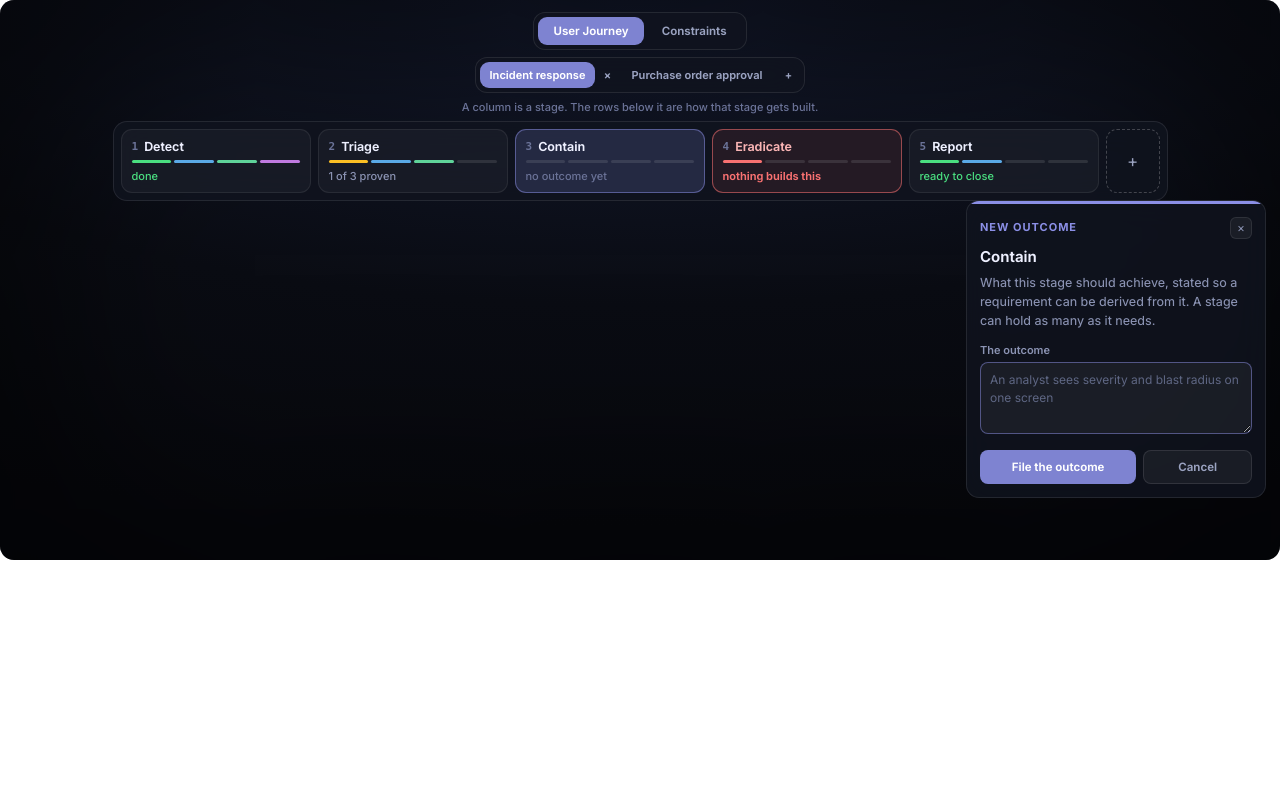
Test: W · a stage and its outcomes › the empty slot under a stage opens that stage's outcome form; an empty statement is refused in words
This screenshot has width=1280, height=800.
Expected: the element with test id "space-inspector" shows "Contain", x1=980 y1=247 x2=1037 y2=266
Click the button with test id "space-form-save": (1058, 467) x1=980 y1=450 x2=1136 y2=484
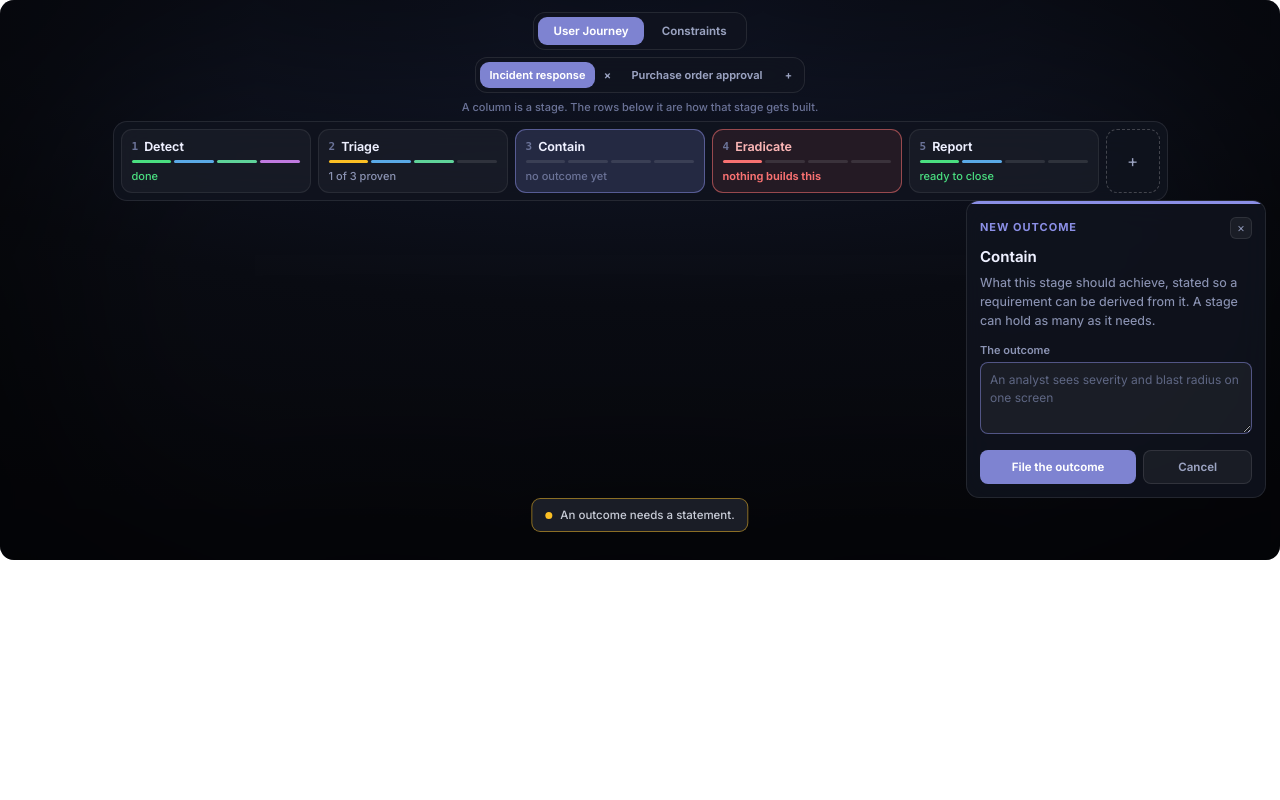
Result: the message with test id "space-toast" reads "An outcome needs a statement." at x1=560 y1=508 x2=735 y2=522
